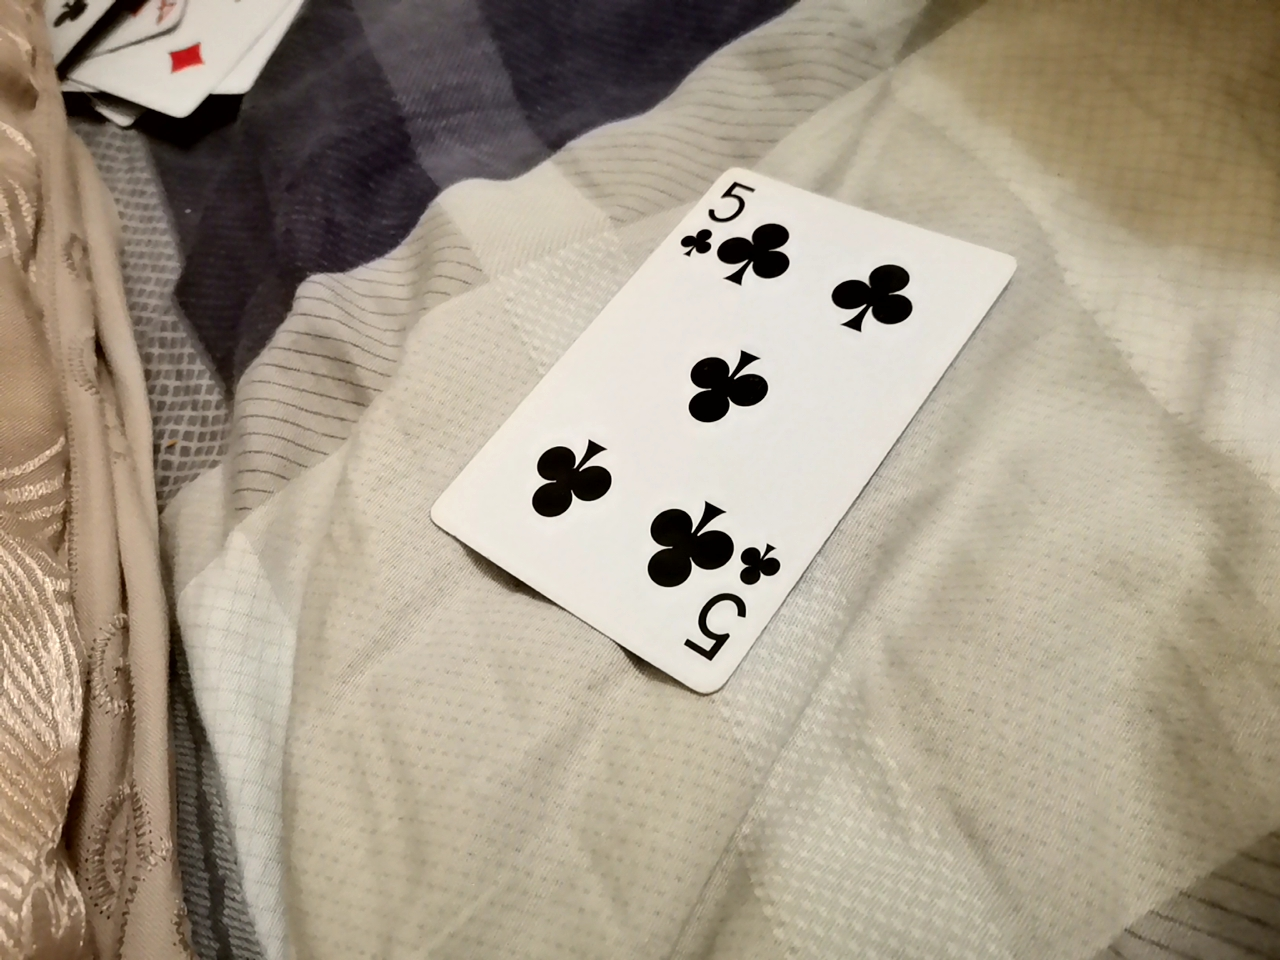mh 5: (425, 174, 1024, 697)
